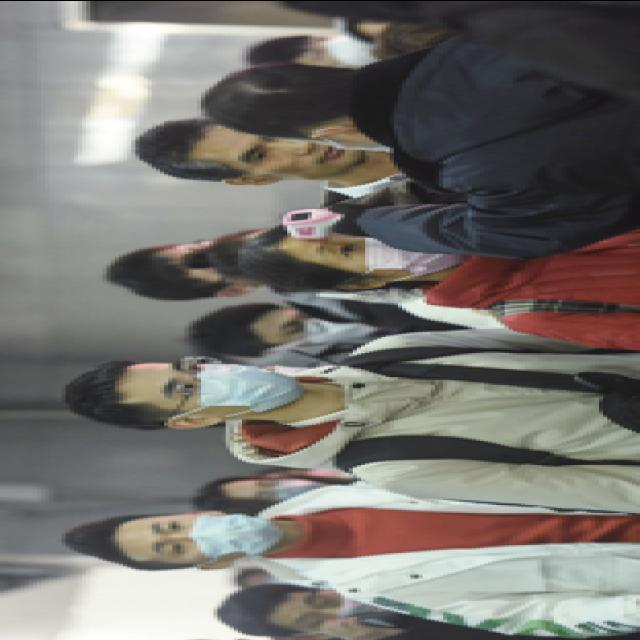mask: (152, 357, 296, 416), (300, 227, 468, 277), (135, 512, 279, 565), (283, 588, 402, 636), (271, 304, 377, 352), (279, 116, 402, 150), (296, 32, 378, 69), (234, 477, 328, 502)
no_mask: (226, 131, 362, 176)
